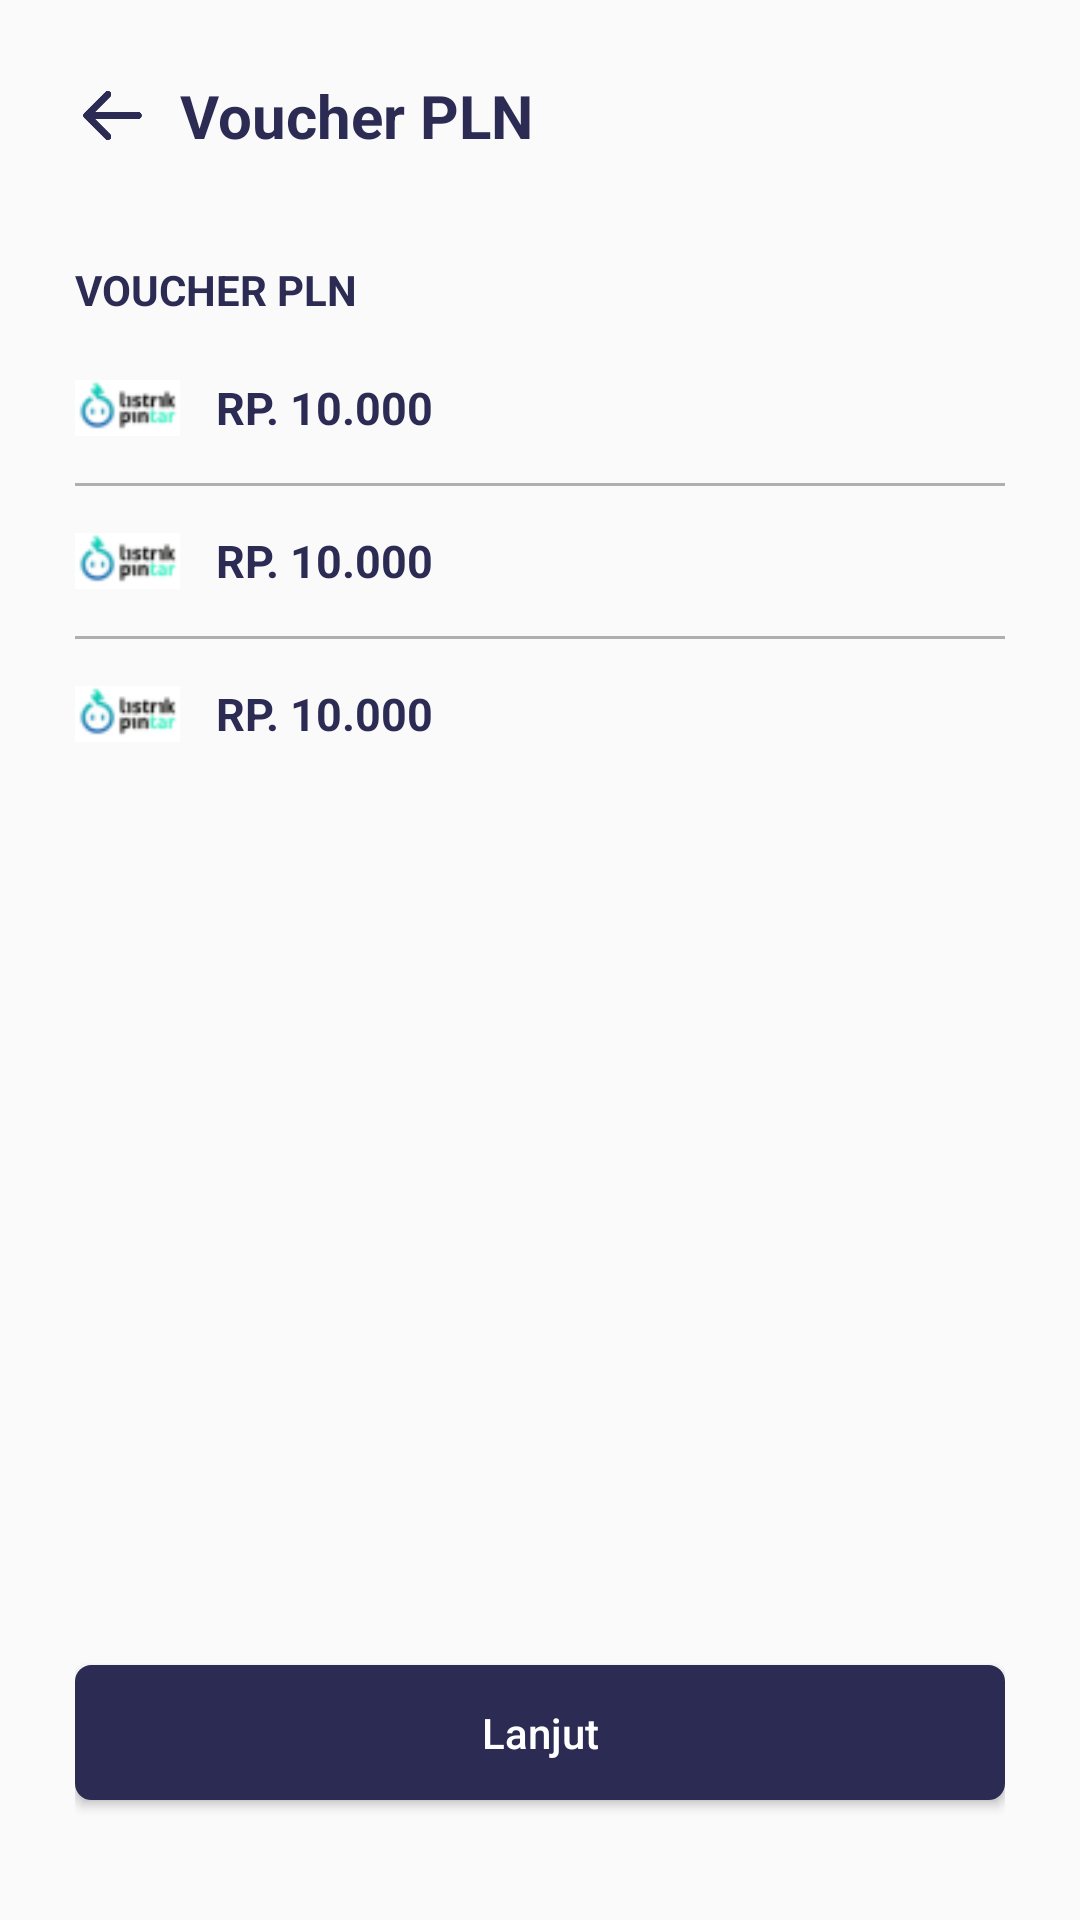

Screen size 1080px×1920px. Icon name, then its box in pixels as (x1, y1, x2, y2):
arrow back: (83, 91, 142, 140)
